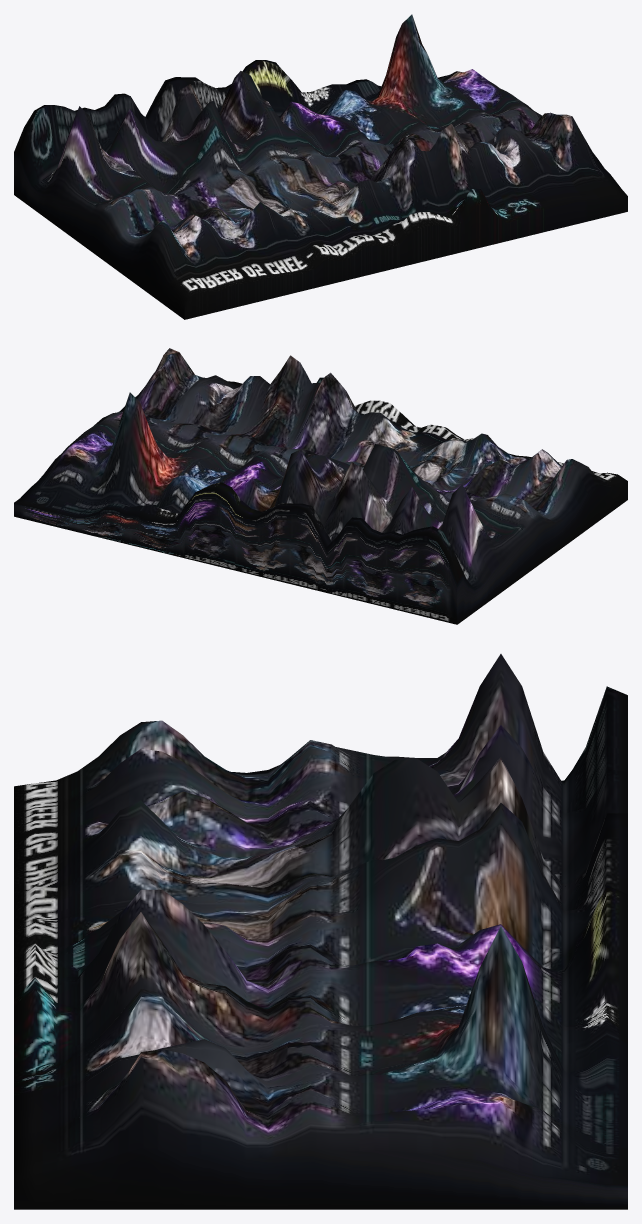
File: CAREER_05_Poster_21.glb
The picture shows the model from 3 angles, top to bottom: view 1: azimuth 30°, elevation 25°; view 2: azimuth 150°, elevation 25°; view 3: azimuth 270°, elevation 25°; orthographic projection. The views are drawn at different scales.
Parts seen in each view (by area): view 1: CAREER_05_Poster_21; view 2: CAREER_05_Poster_21; view 3: CAREER_05_Poster_21.
Boxes of the visible parts, x1,y1,x2,y2 form: CAREER_05_Poster_21: (14,14,627,319); CAREER_05_Poster_21: (14,348,627,624); CAREER_05_Poster_21: (14,654,627,1209).
Size of the model in its own units: 2 by 0.51 by 1.33.
Materials: 1 (1 with a texture image).
